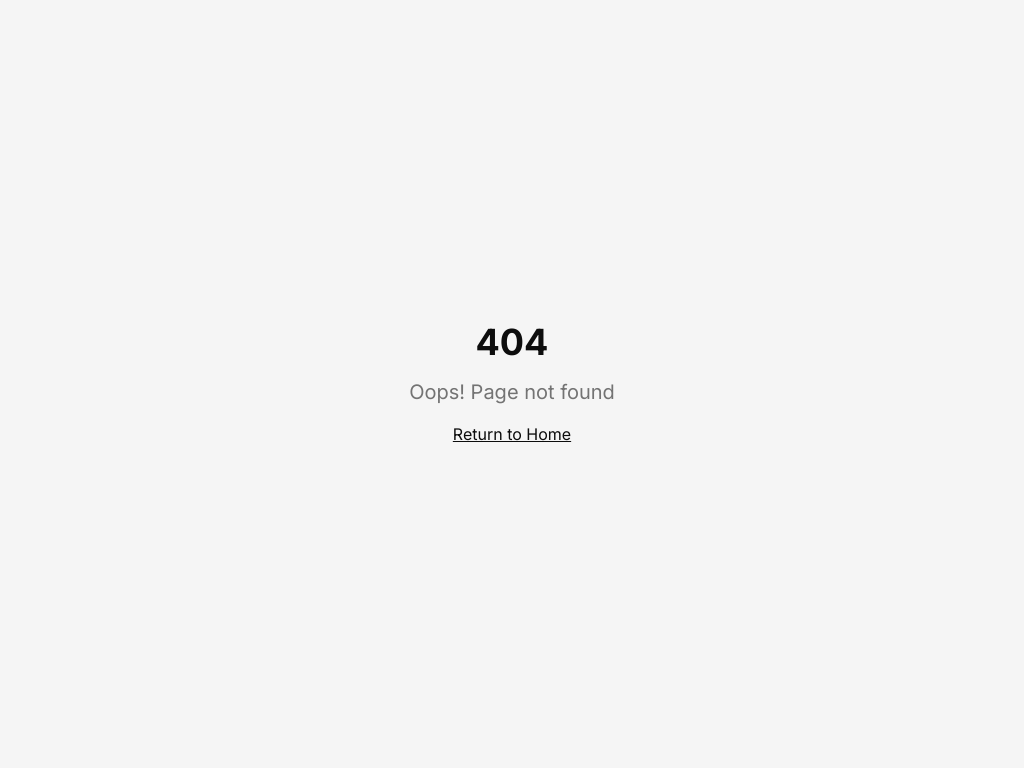
Test case: navigation › 404 page goes home without a full page reload
Click the link "Return to Home" at (512, 434), box 453,424 -> 571,444
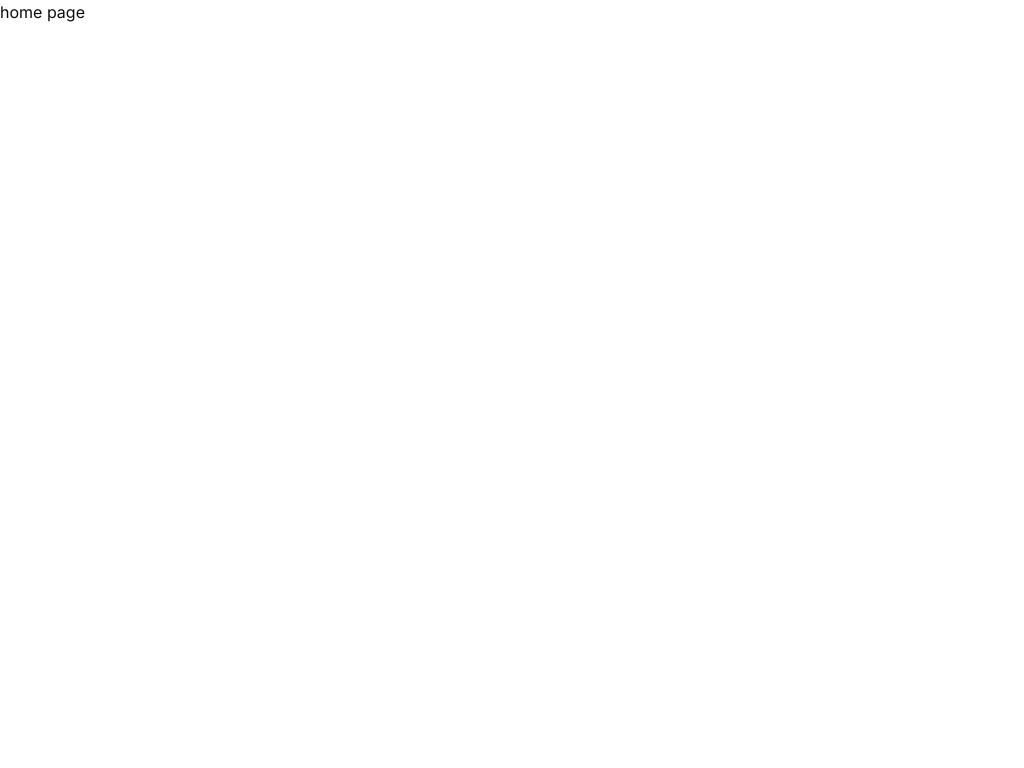
Expected: the heading "home page" is shown, 0,2 -> 85,22
